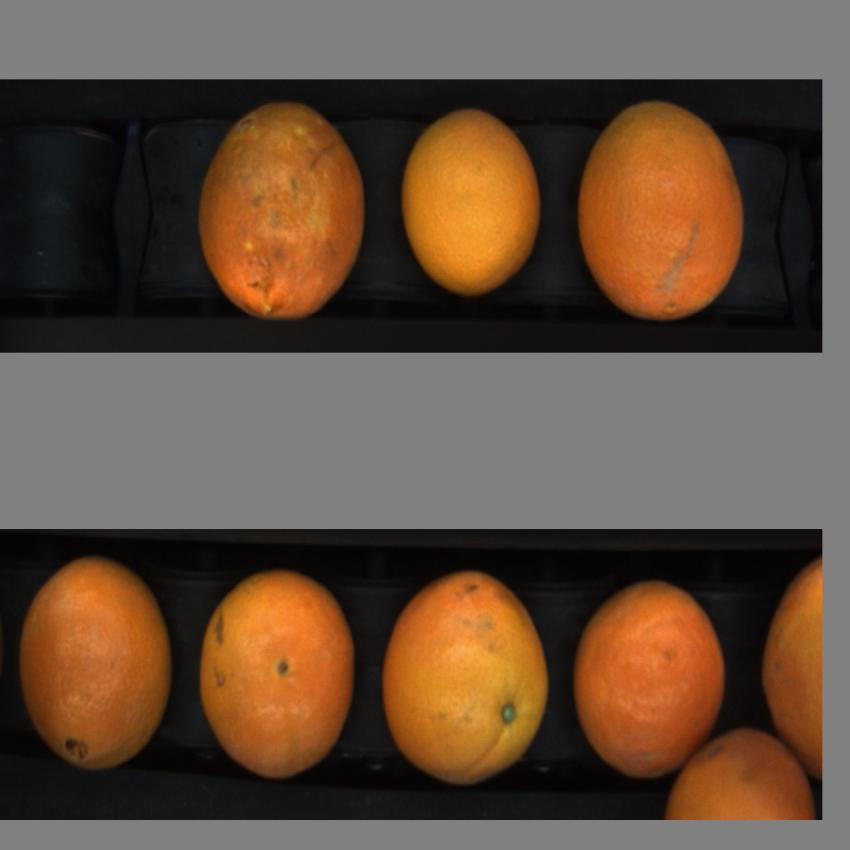Buen estado: (570, 101, 745, 321), (198, 562, 361, 783), (380, 574, 552, 780), (399, 104, 547, 318), (572, 576, 726, 776), (662, 709, 816, 820), (759, 549, 826, 765)
Mal estado: (187, 99, 373, 325), (17, 549, 178, 770)
